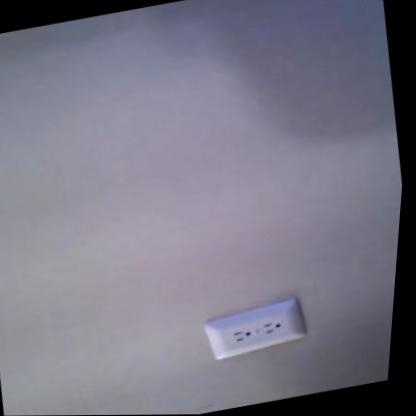OUTLET: (198, 297, 308, 362)
